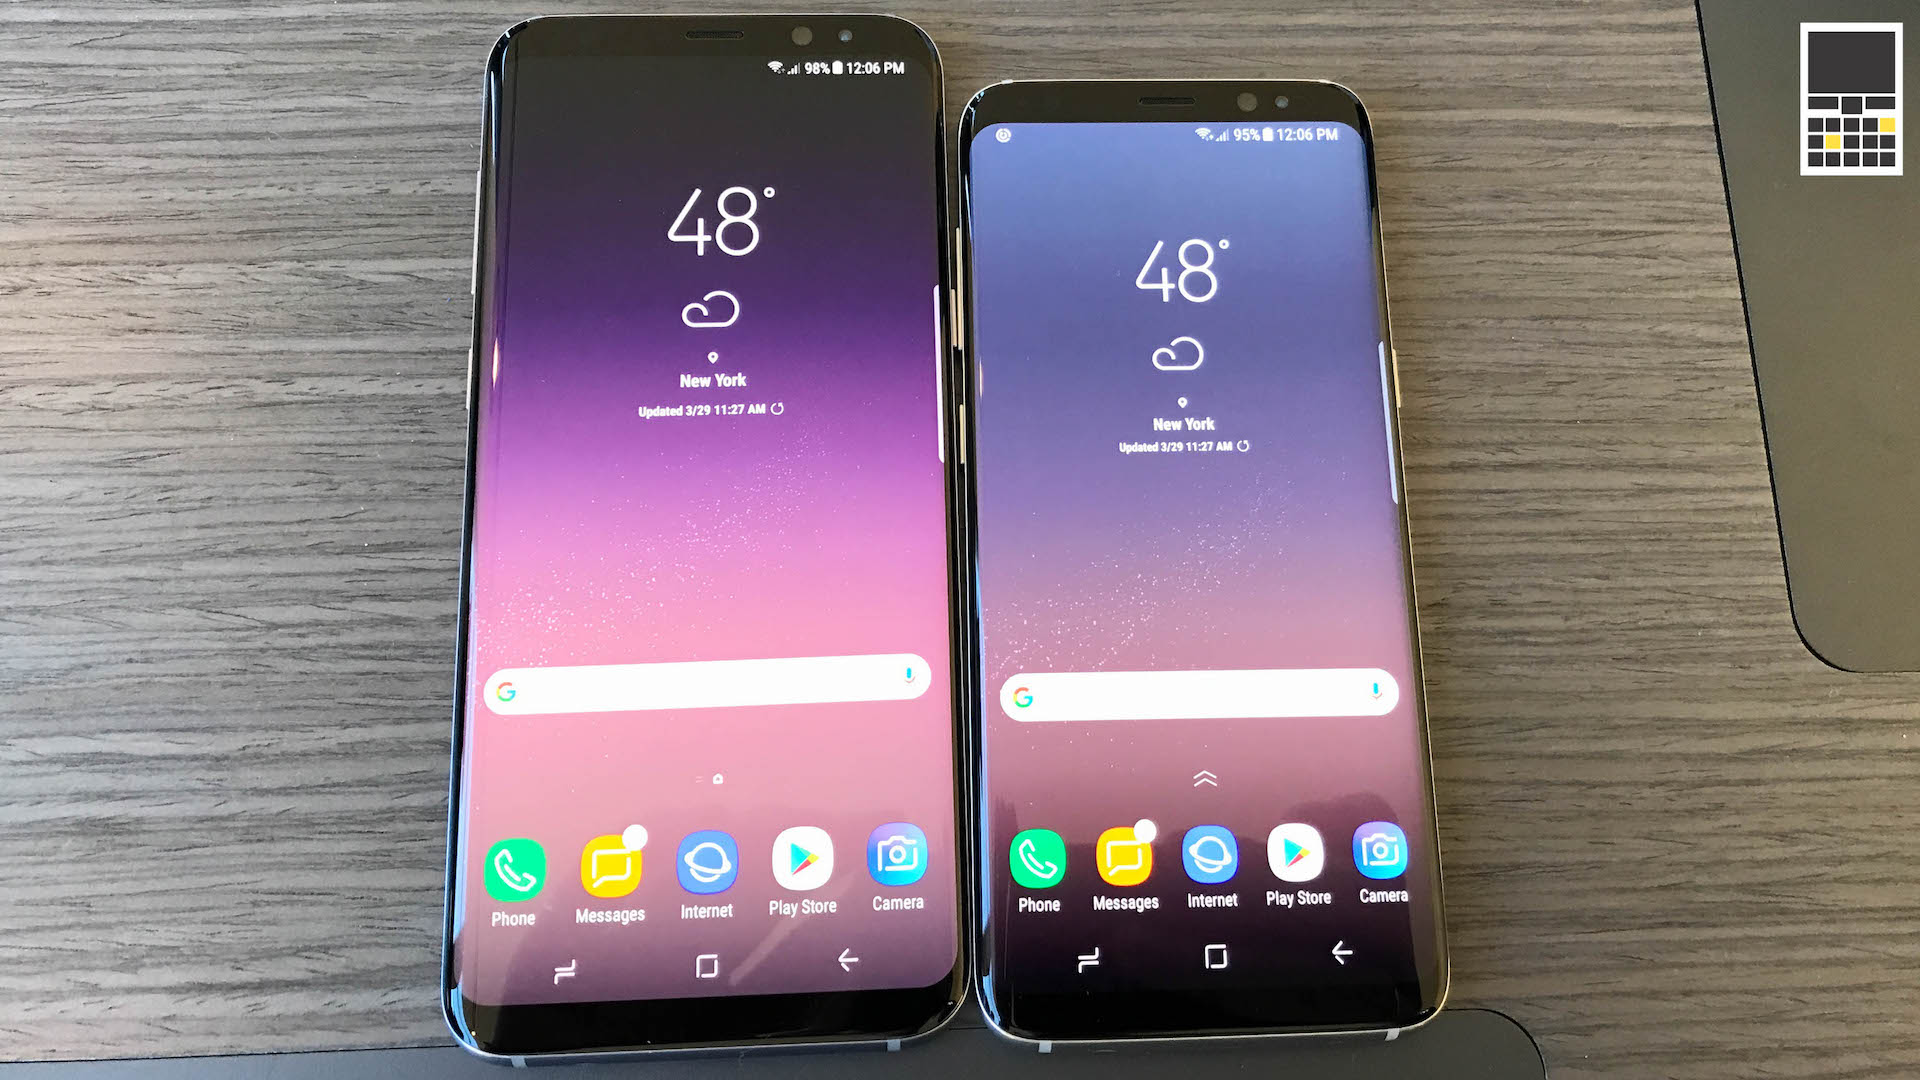smartphone: (435, 7, 971, 1071), (959, 69, 1457, 1054)
